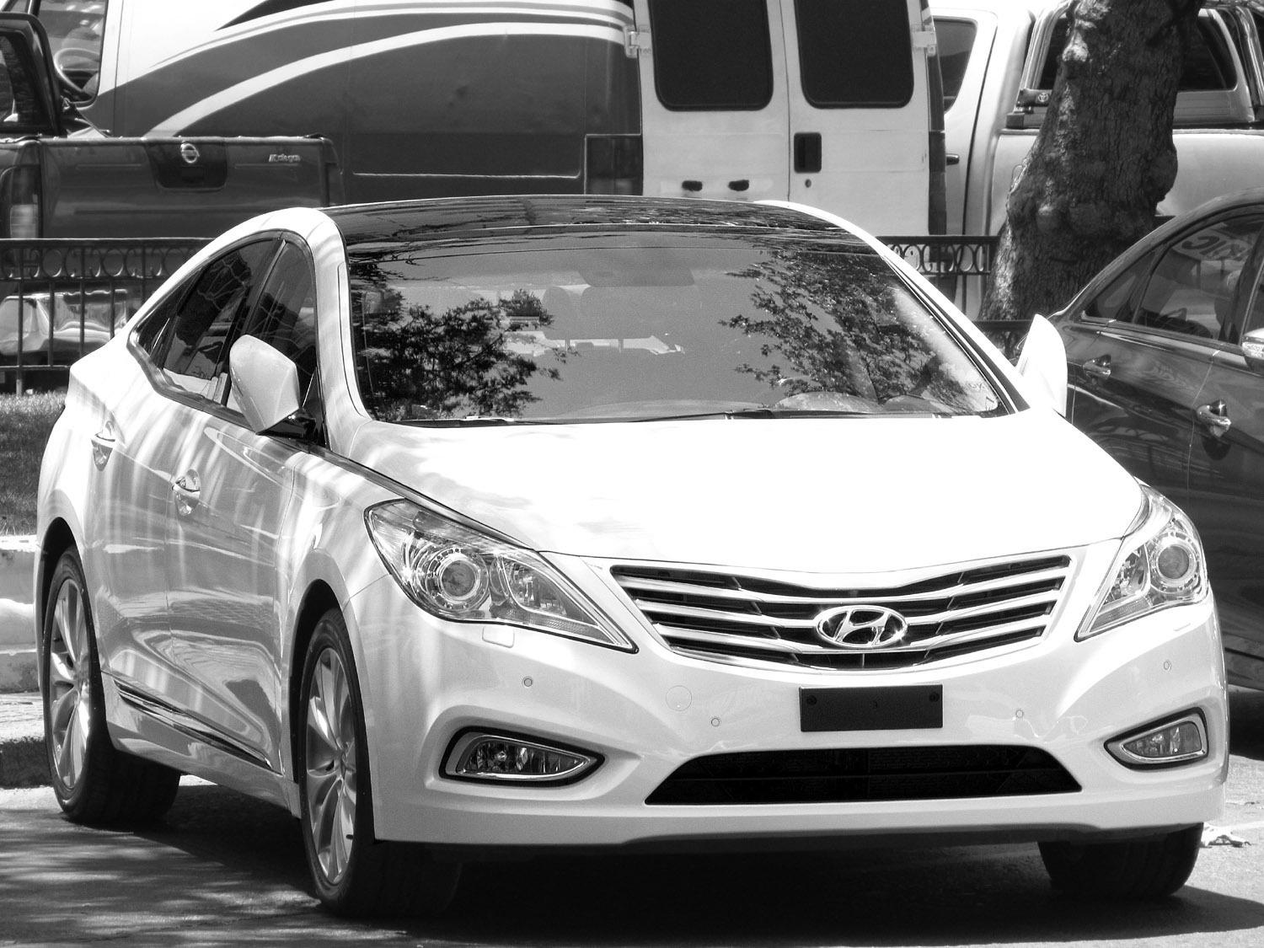car: (39, 202, 1236, 940)
